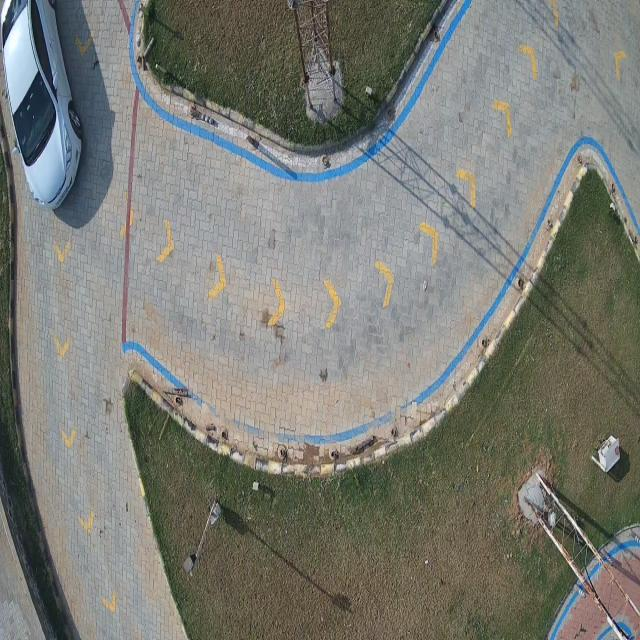car: (0, 0, 82, 209)
